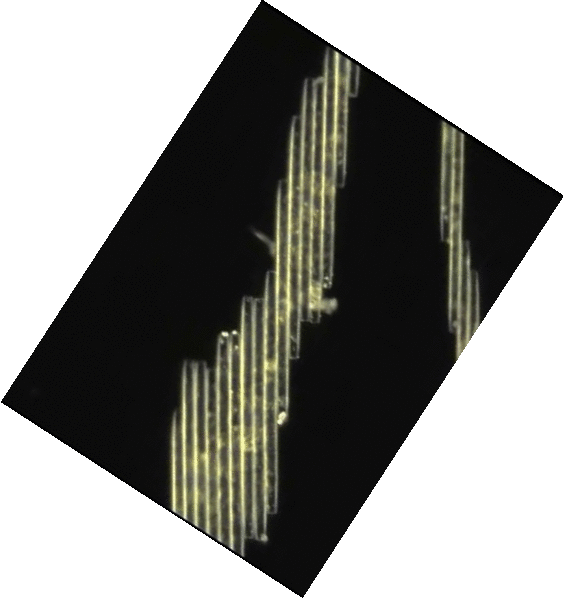bacilleria: (228, 328, 244, 556), (253, 299, 267, 544), (264, 271, 278, 515), (311, 80, 324, 322), (204, 369, 221, 542), (277, 180, 289, 424), (241, 298, 253, 541), (287, 118, 299, 361), (217, 331, 229, 550), (450, 129, 462, 329), (193, 361, 206, 536), (301, 79, 310, 324), (180, 361, 193, 523), (325, 44, 333, 289), (440, 122, 455, 241), (336, 50, 347, 188), (458, 242, 469, 357), (170, 413, 181, 517), (468, 271, 481, 334), (348, 58, 361, 99)
